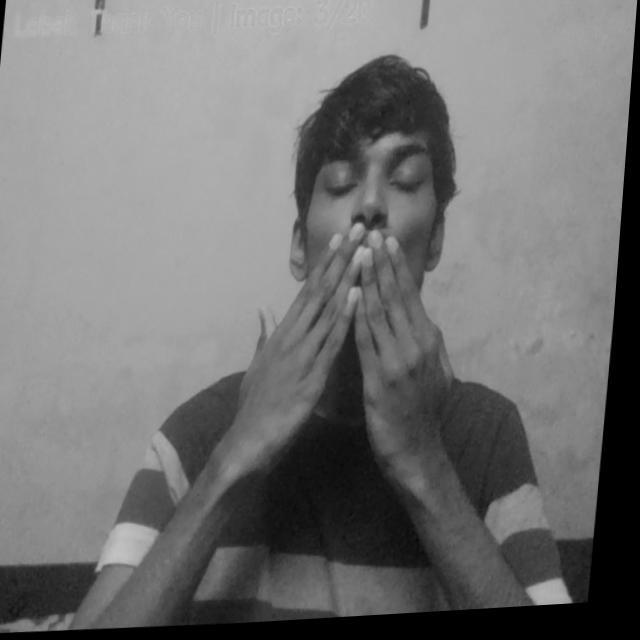Thank You: (233, 221, 469, 491)
